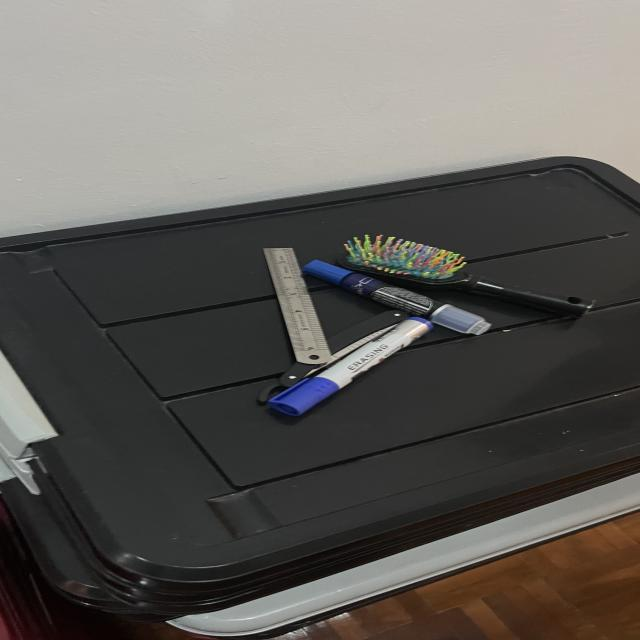marker: (269, 317, 432, 416), (302, 260, 491, 335)
ruler: (263, 248, 331, 368)
